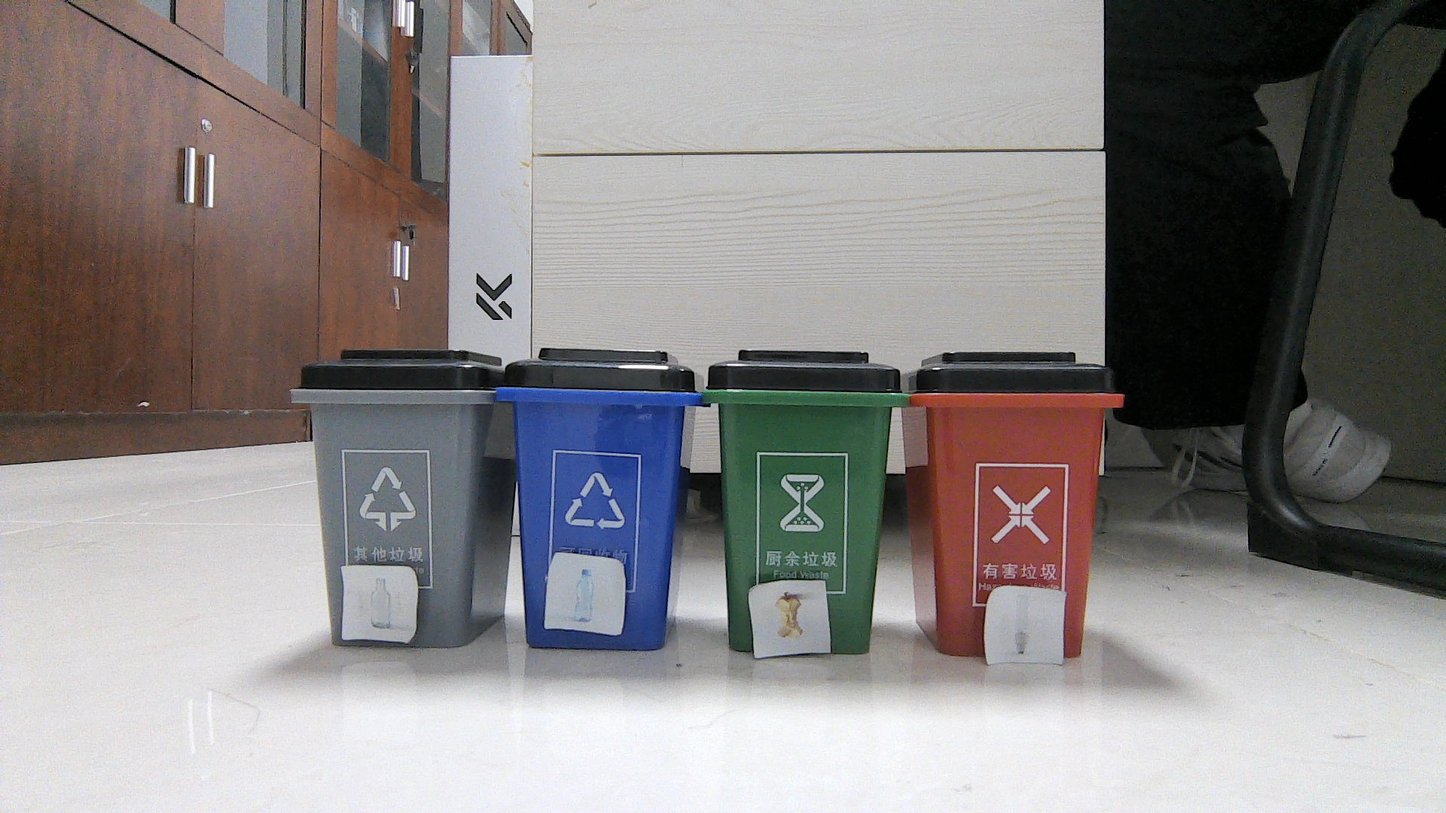food_trash: (762, 586, 822, 648)
hazardous_trash: (995, 591, 1057, 658)
recyclable_trash: (346, 569, 410, 640), (557, 555, 611, 628)
